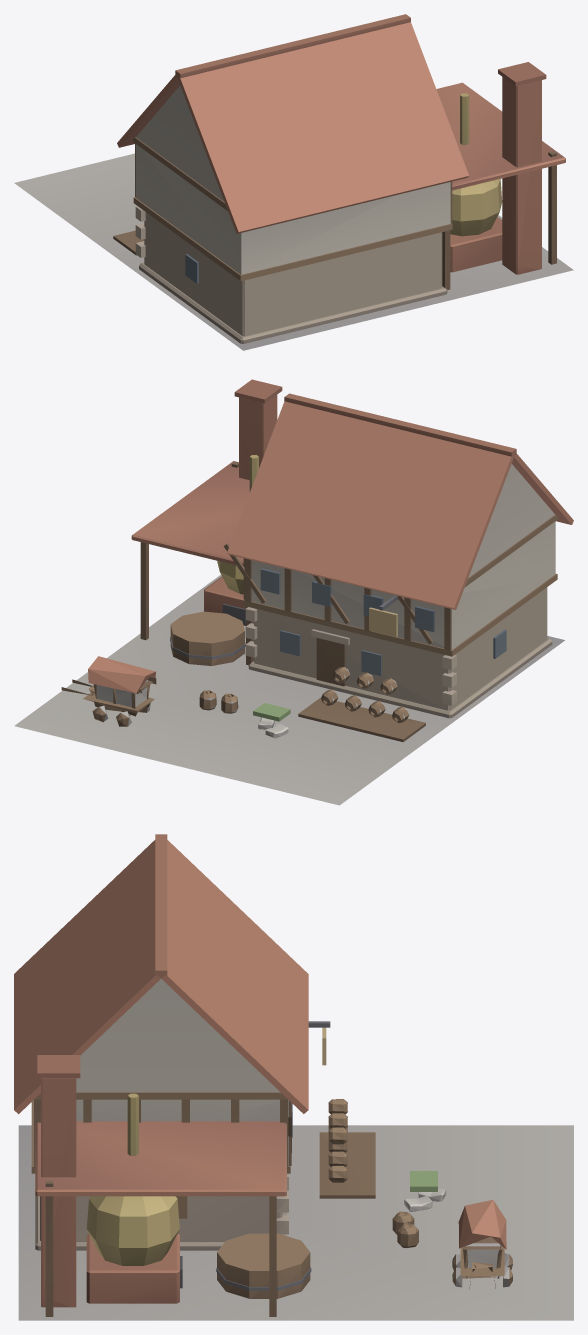
Rendered from brewery.glb.
3 views of the same model, one above another, from view 1: azimuth 30°, elevation 25°; view 2: azimuth 150°, elevation 25°; view 3: azimuth 270°, elevation 25° (orthographic). The views are drawn at different scales.
Parts seen in each view (by area): view 1: brewery; view 2: brewery; view 3: brewery.
Boxes of the visible parts, x1,y1,x2,y2 form: brewery: (14, 14, 573, 350); brewery: (14, 379, 573, 805); brewery: (14, 834, 573, 1320).
Bounding box in the file's own units: 5.06 × 3.42 × 6.01.
